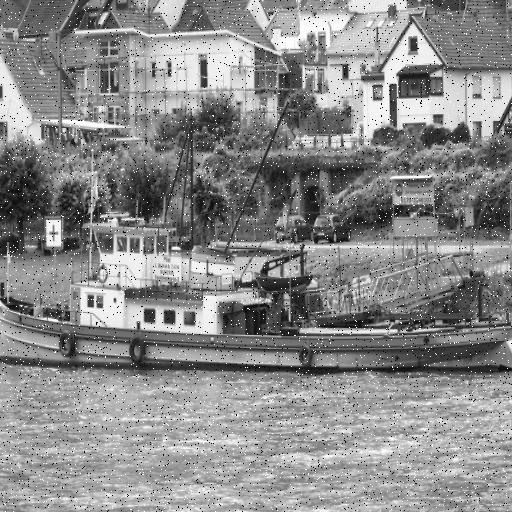tugboat: (1, 147, 512, 386)
